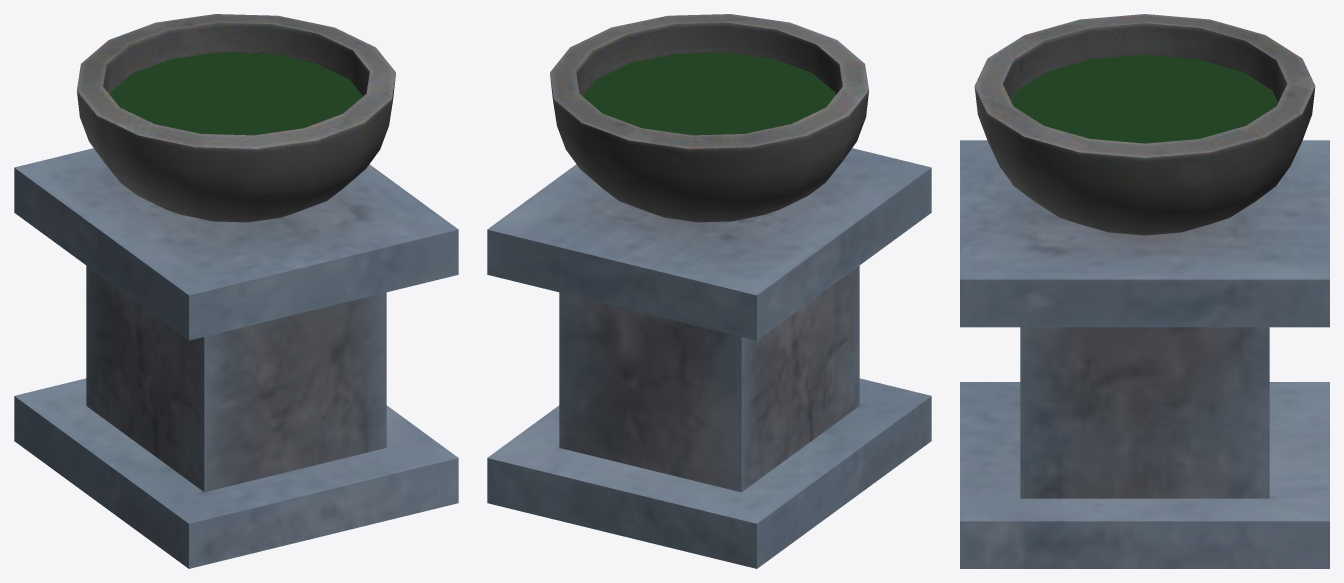
Rendered from room_basin.gltf.
3 renders of one model, left to right at view 1: azimuth 30°, elevation 25°; view 2: azimuth 150°, elevation 25°; view 3: azimuth 270°, elevation 25°, orthographic. The views are drawn at different scales.
Visible parts, largest first — view 1: room_basin; view 2: room_basin; view 3: room_basin.
Boxes of the visible parts, left/top/right/bottom form: room_basin: left=14, top=14, right=458, bottom=568; room_basin: left=487, top=14, right=931, bottom=568; room_basin: left=960, top=14, right=1329, bottom=568.
Size of the model in its own units: 3.63 by 4.89 by 3.94.
3 materials, 3 textured.
